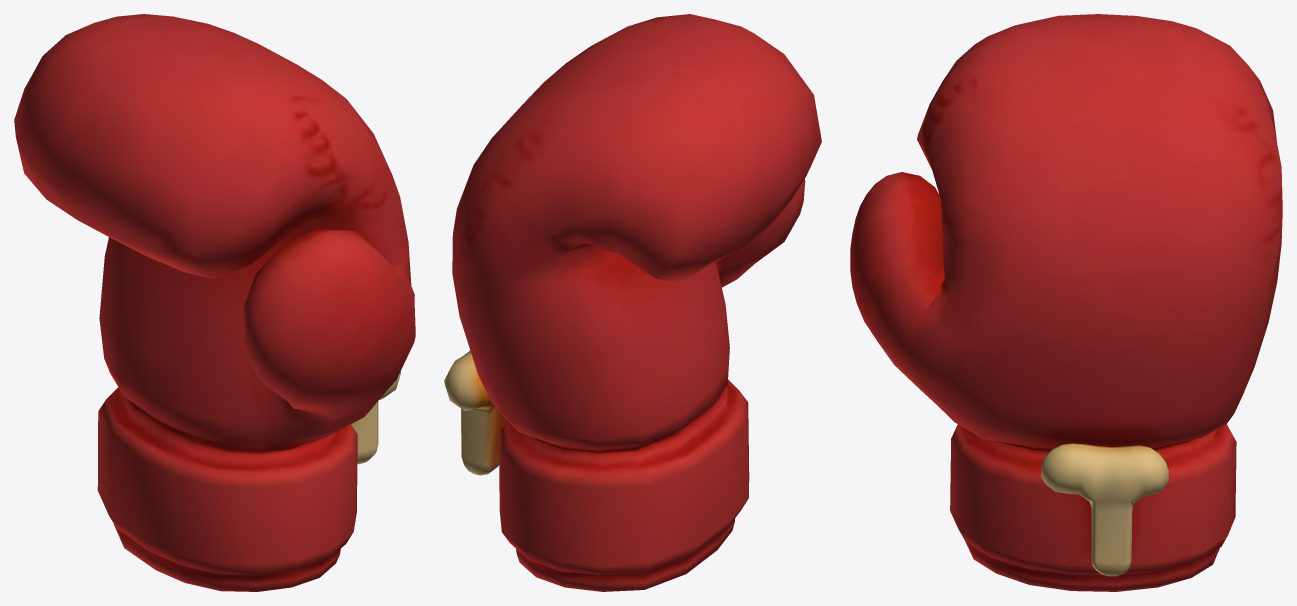
The model's file is skill-fist.glb.
3 views of the same model, side by side, from view 1: azimuth 30°, elevation 25°; view 2: azimuth 150°, elevation 25°; view 3: azimuth 270°, elevation 25° (orthographic). The views are drawn at different scales.
Visible parts, largest first — view 1: tripo_node_2d56240e-caee-40a0-af7b-2228ce29540e; view 2: tripo_node_2d56240e-caee-40a0-af7b-2228ce29540e; view 3: tripo_node_2d56240e-caee-40a0-af7b-2228ce29540e.
Part boxes in pixels (x1,y1,x2,y2): tripo_node_2d56240e-caee-40a0-af7b-2228ce29540e: (14, 14, 415, 591); tripo_node_2d56240e-caee-40a0-af7b-2228ce29540e: (444, 14, 821, 591); tripo_node_2d56240e-caee-40a0-af7b-2228ce29540e: (850, 14, 1282, 591).
Size of the model in its own units: 0.6621 by 0.998 by 0.7871.
1 material, 1 textured.
